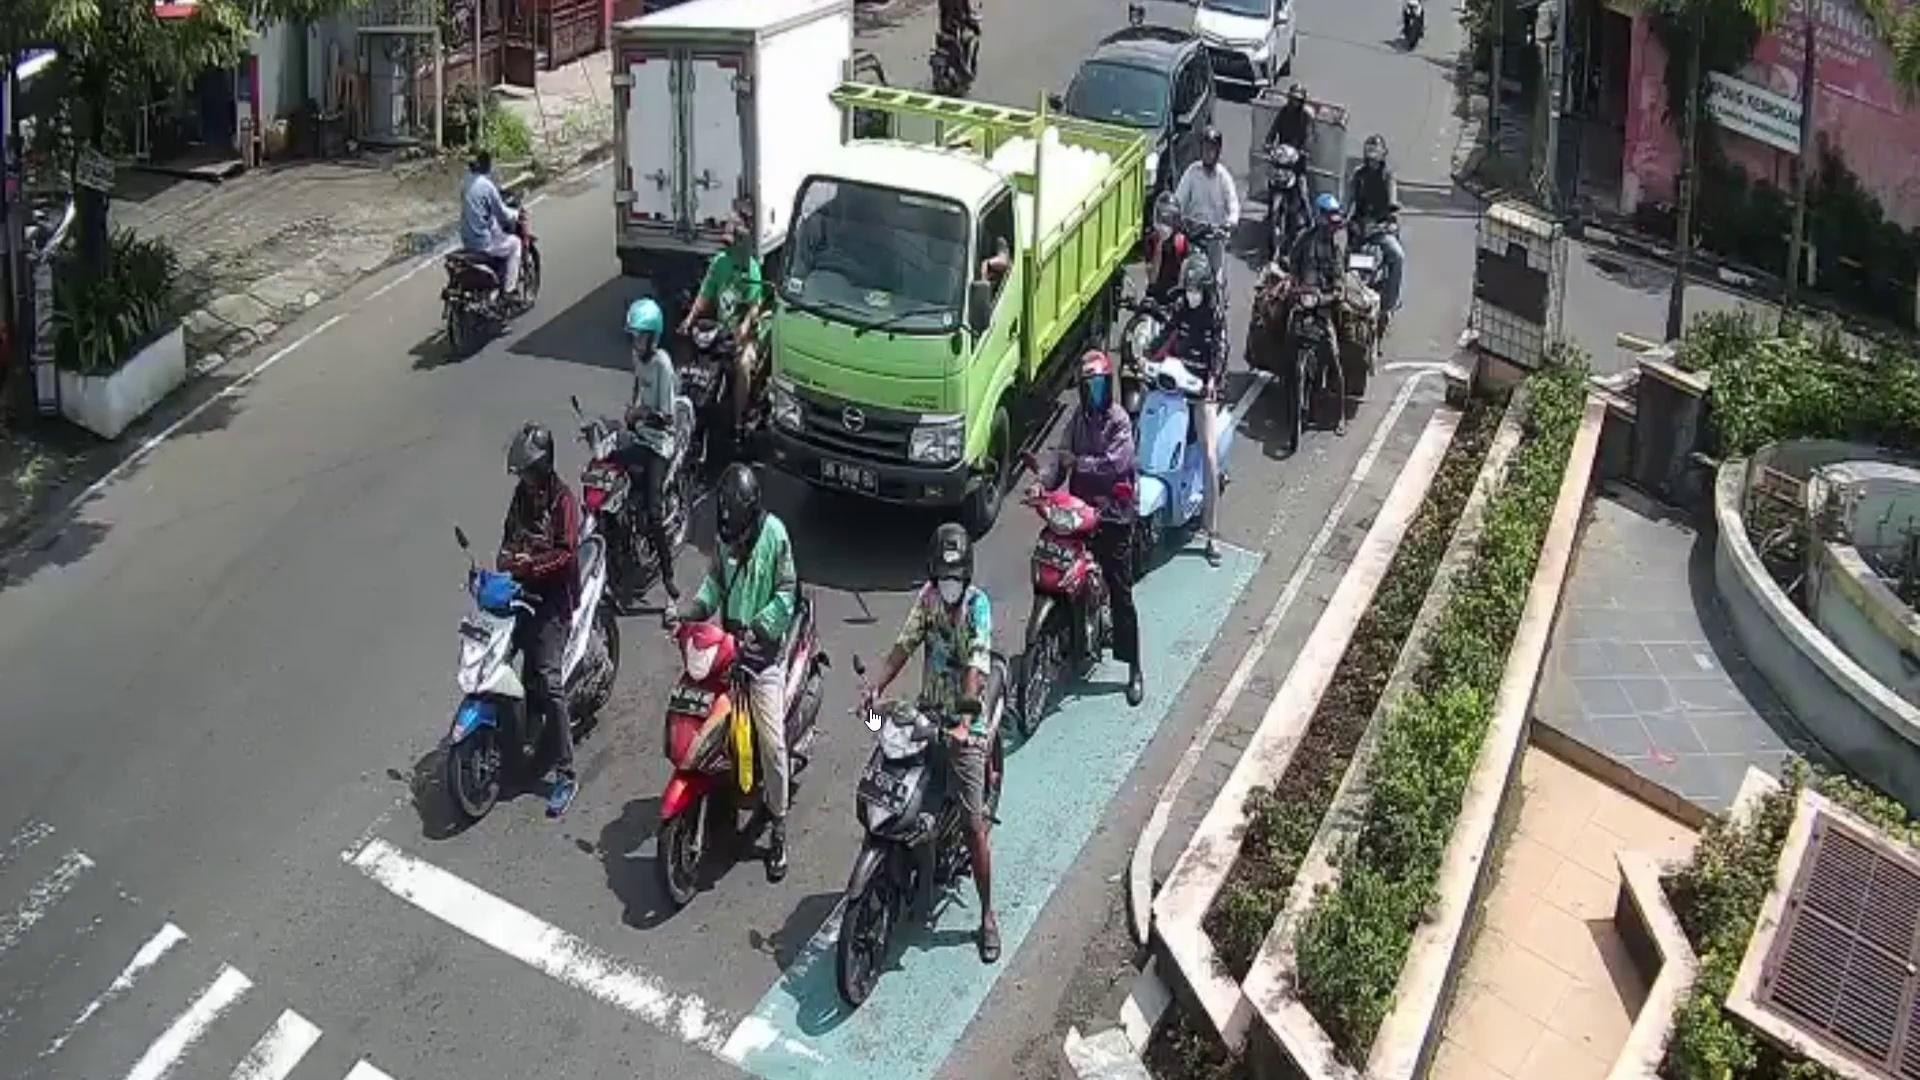car: (1054, 24, 1217, 240), (1199, 0, 1307, 96)
motorbike: (837, 646, 1015, 1005), (662, 588, 828, 907), (446, 529, 622, 823), (1017, 497, 1138, 733), (568, 396, 700, 580), (1127, 355, 1226, 563), (444, 187, 543, 342), (679, 316, 770, 467), (1282, 278, 1338, 444), (1337, 214, 1395, 318), (1267, 140, 1302, 266)
truck: (769, 75, 1150, 529), (609, 0, 891, 301)
